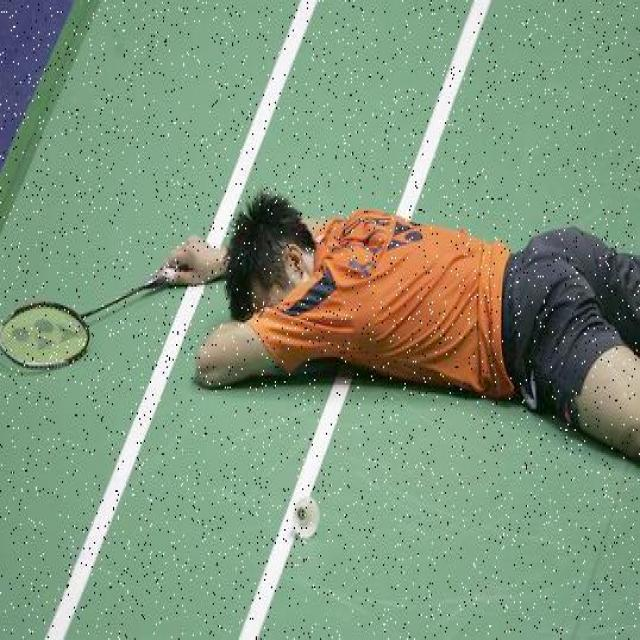fall: (168, 188, 639, 444)
